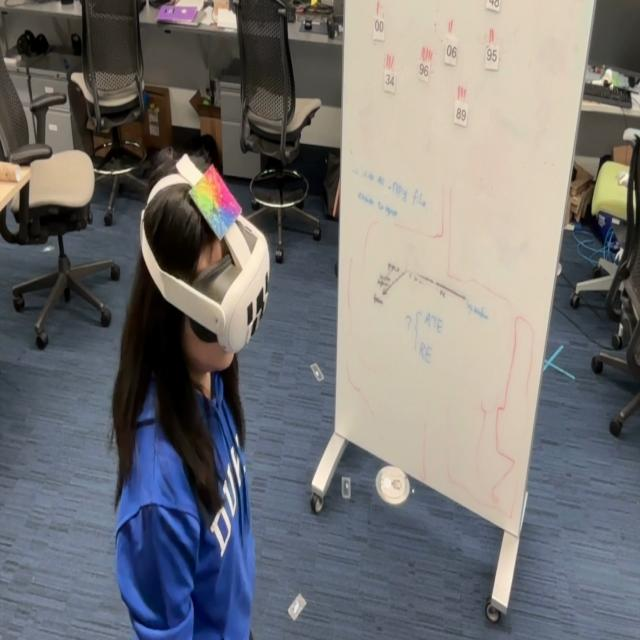Headset: (140, 174, 270, 355)
Marker: (188, 171, 246, 239)
